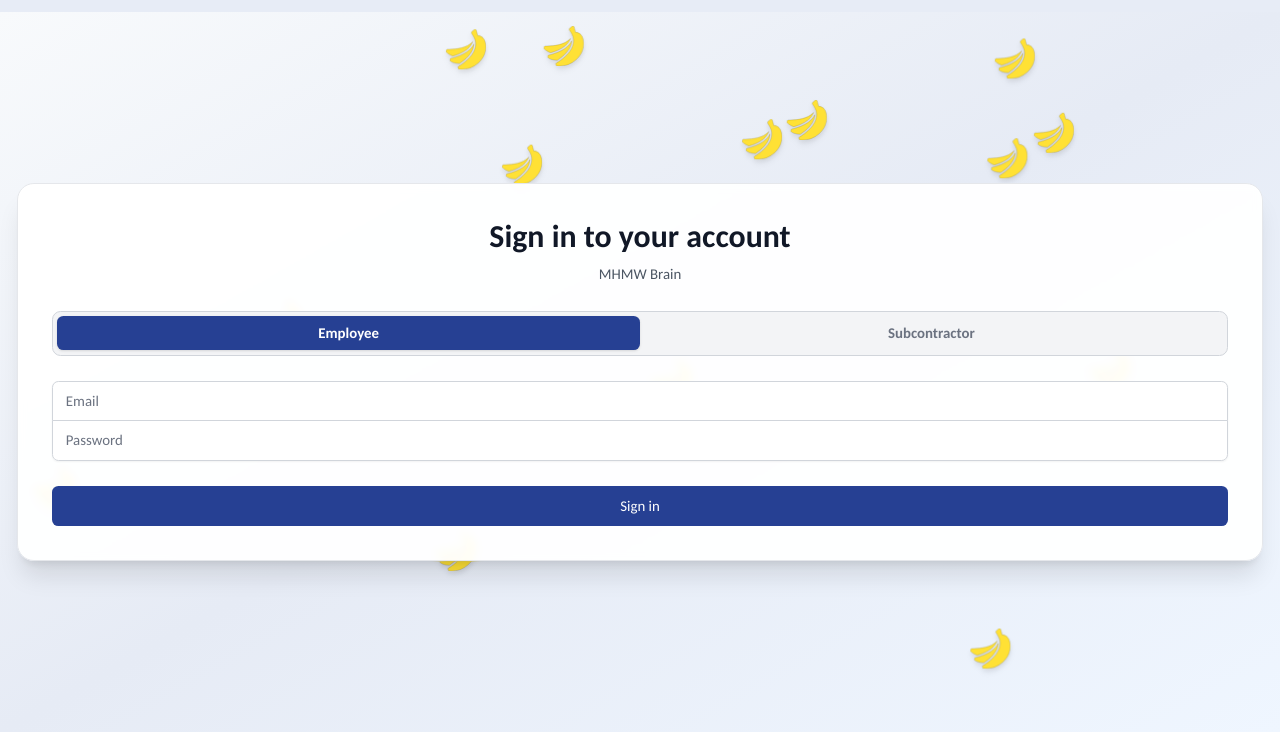
Test case: Login page › switching tabs clears in-progress state from the other flow
Type "alice@example.com" into the field with placeholder "Email" at (640, 401), box [52,381,1228,421]
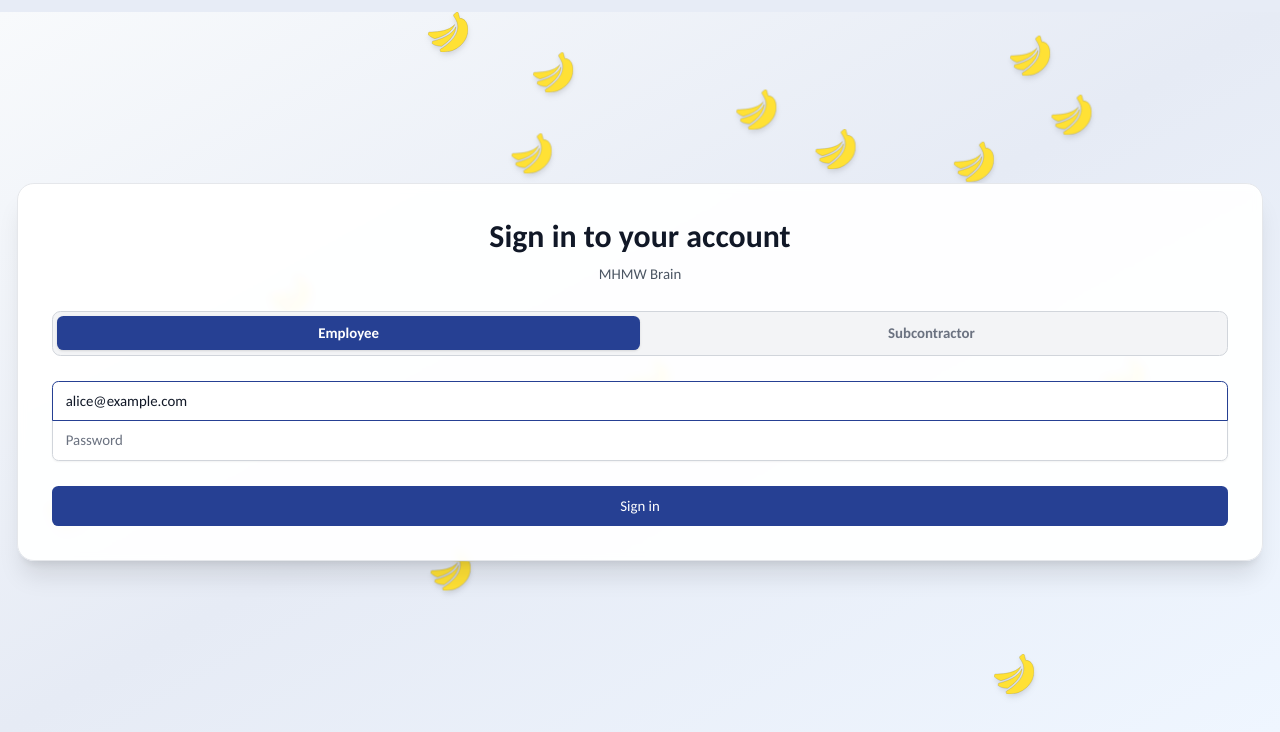
Type "whatever" into the password field with placeholder "Password" at (640, 441), box [52,420,1228,461]
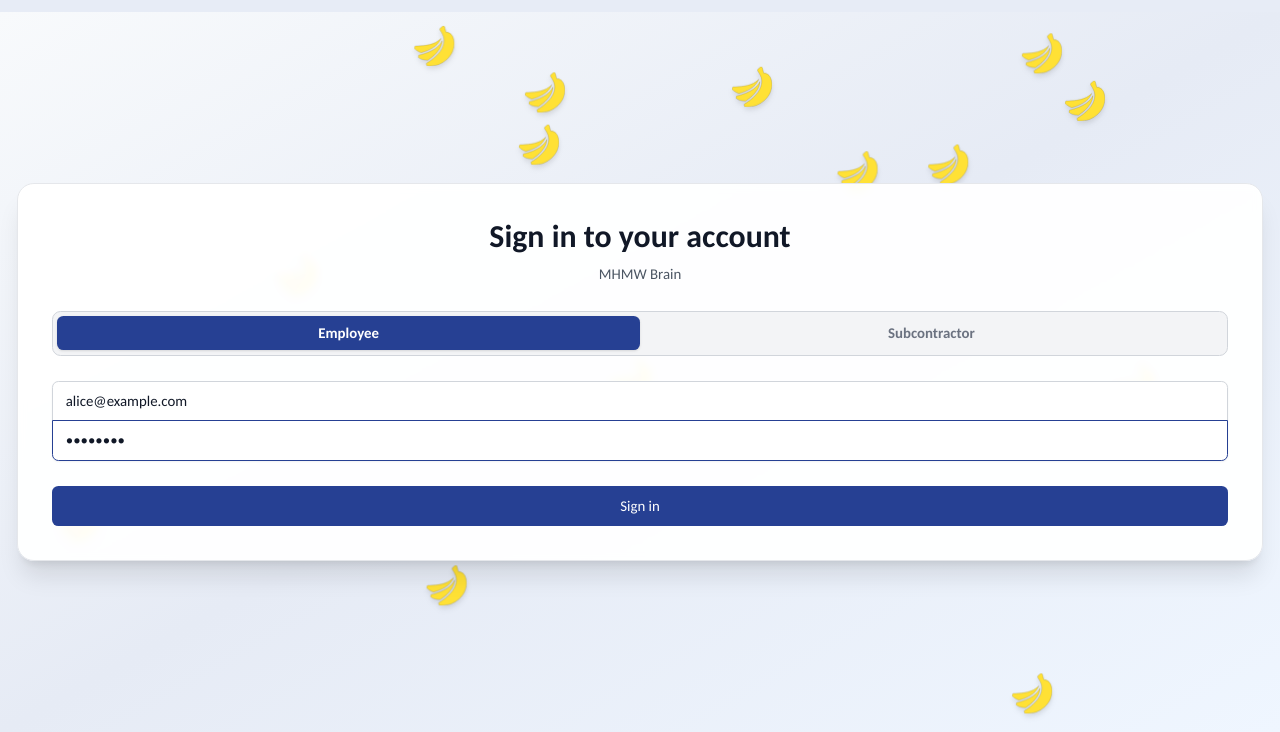
Click the button "Sign in" at (640, 506), box [52,486,1228,526]
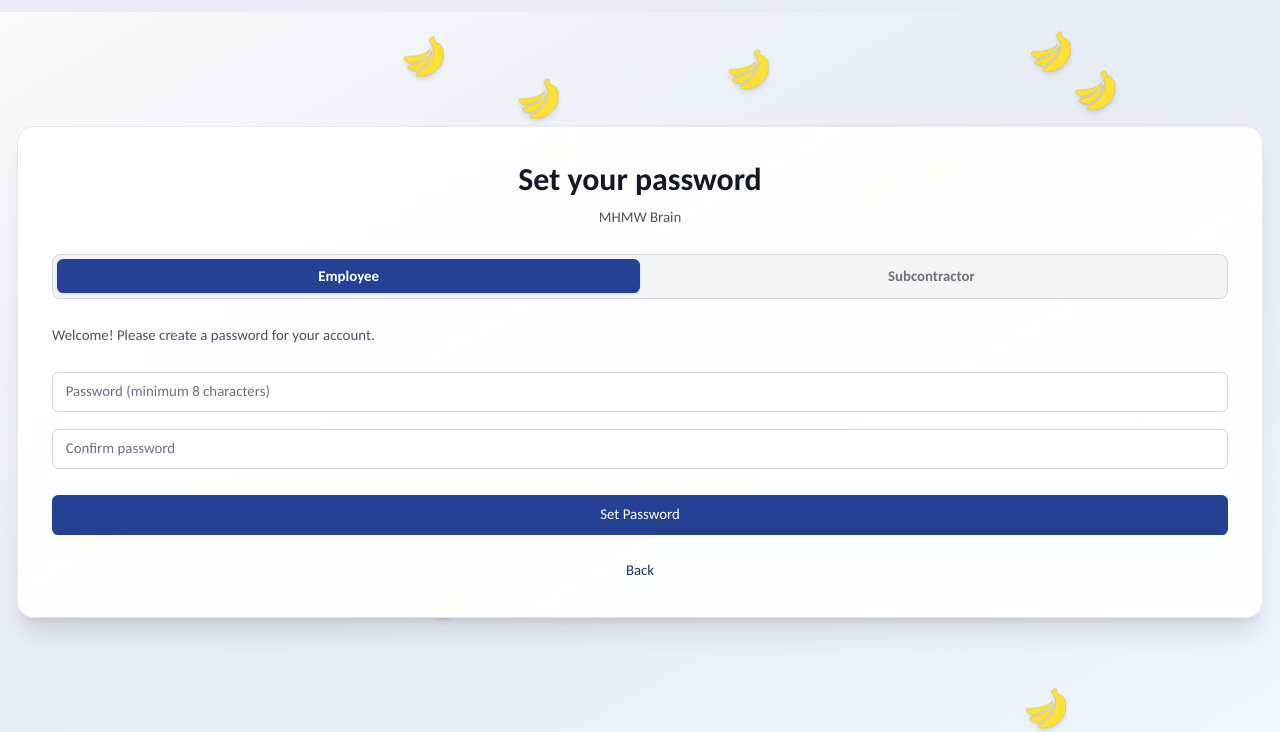
Check: the password field with placeholder "Password (minimum 8 characters)" is shown, box [52,372,1228,412]
Click the button "Employee" at (349, 277), box [57,260,640,294]
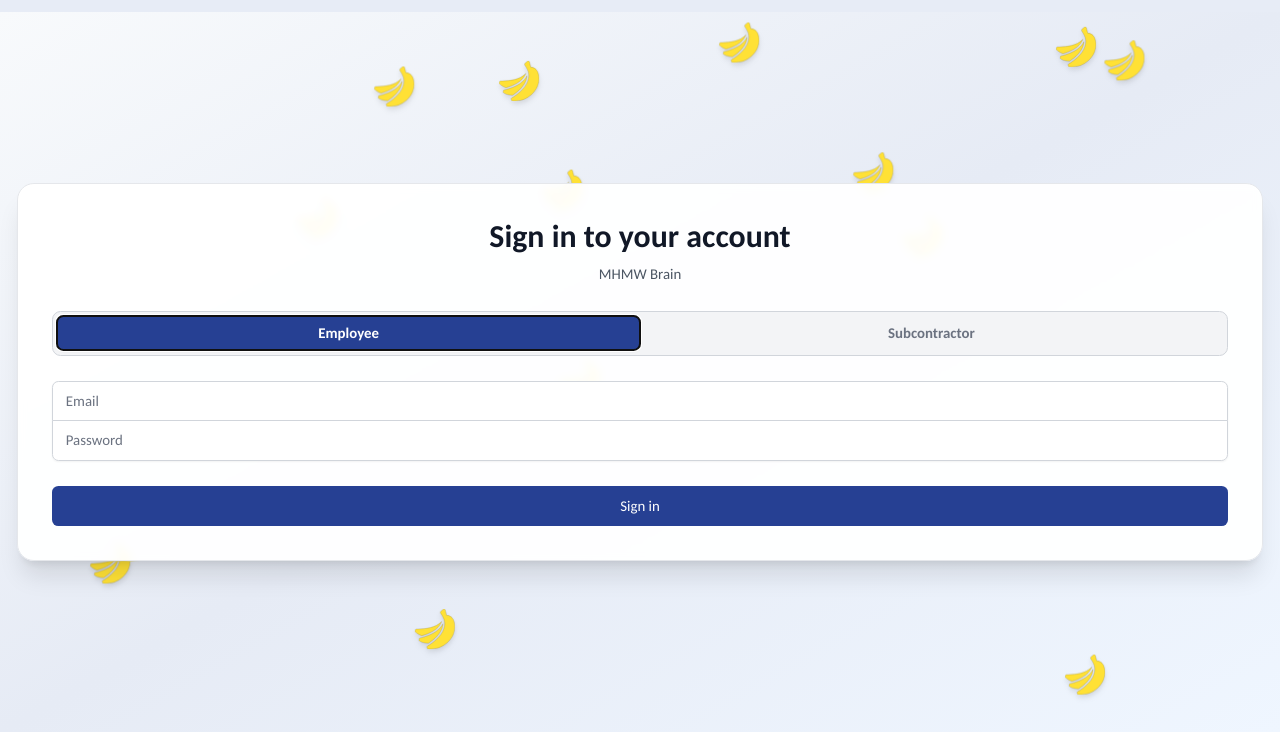
Check: the field with placeholder "Email" is shown, box [52,381,1228,421]
Check: the password field with placeholder "Password" is shown, box [52,420,1228,461]
